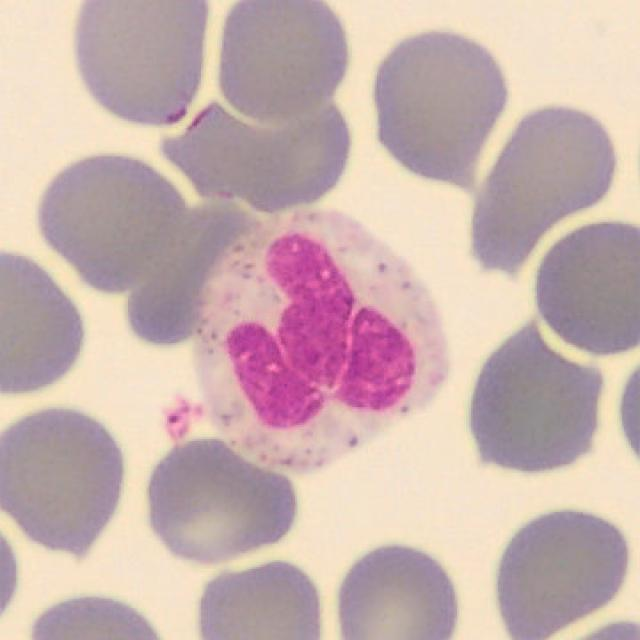Neutrofilo segmentado: (191, 209, 448, 480)
